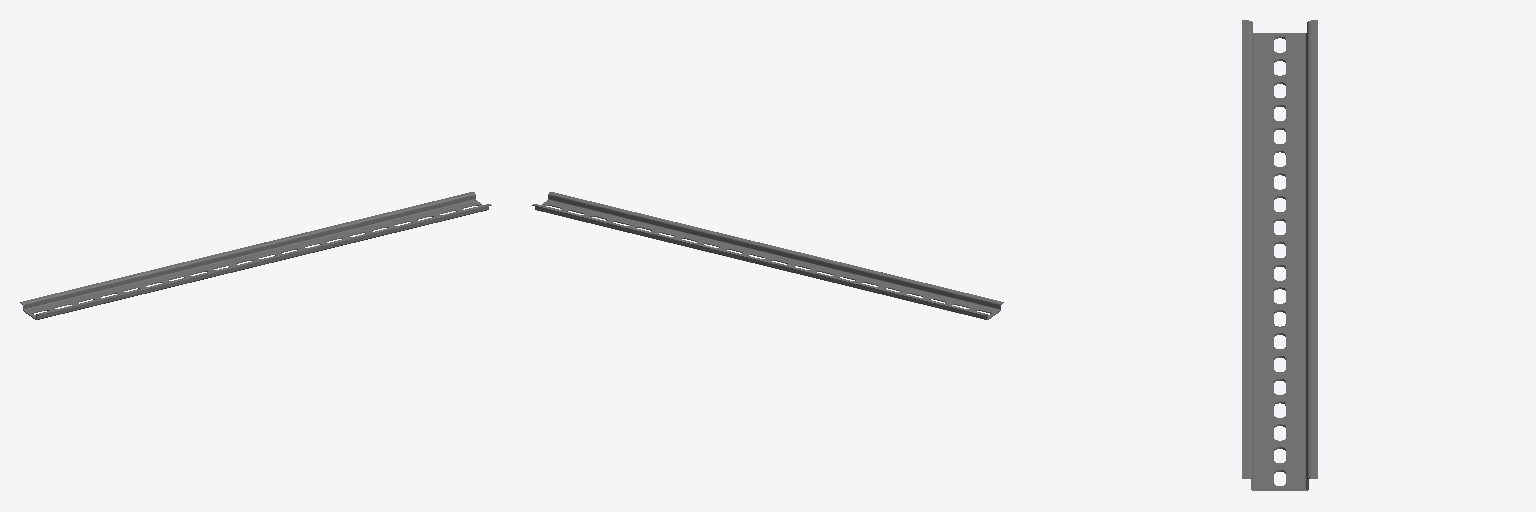
robot.urdf — rail.urdf:
<?xml version="0.0" ?>
<robot name="rail.urdf">
  <link name="baseLink">
    <contact>
      <lateral_friction value=".5"/>
    </contact>
    <inertial>
      <origin rpy="0 0 0" xyz="0 0 0"/>
       <mass value=".05"/>
       <inertia ixx="1" ixy="0" ixz="0" iyy="1" iyz="0" izz="1"/>
    </inertial>
    <visual>
      <origin rpy="0 0 0" xyz="0 0 0"/>
      <geometry>
		<mesh filename="rail_small.stl" scale="1 1 1"/>
      </geometry>
       <material name="gray">
        <color rgba="0.5 0.5 0.5 1"/>
      </material>
    </visual>
    <collision>
      <origin rpy="0 0 0" xyz="0 0 0"/>
      <geometry>
	 	<mesh filename="rail_small.stl" scale="1 1 1"/>
      </geometry>
    </collision>
  </link>
</robot>

--- What the picture shows (computed from the rendered views, not written in the file) ---
Views: 3 orthographic renders of the robot side by side, from view 1: azimuth 30°, elevation 25°; view 2: azimuth 150°, elevation 25°; view 3: azimuth 270°, elevation 25°.
Model rail.urdf with 1 links and 0 joints (none), rooted at baseLink, posed every joint at zero.
Links seen in each view (by area): view 1: baseLink; view 2: baseLink; view 3: baseLink.
Link boxes in pixels (left/top/right/bottom): baseLink: left=20, top=192, right=491, bottom=319; baseLink: left=532, top=192, right=1003, bottom=319; baseLink: left=1242, top=20, right=1317, bottom=490.
Size in the robot's own frame: 0.5001 by 0.035 by 0.0075 metres.
Meshes: 1 distinct files referenced, 1 mesh visuals loaded (1 binary STL).